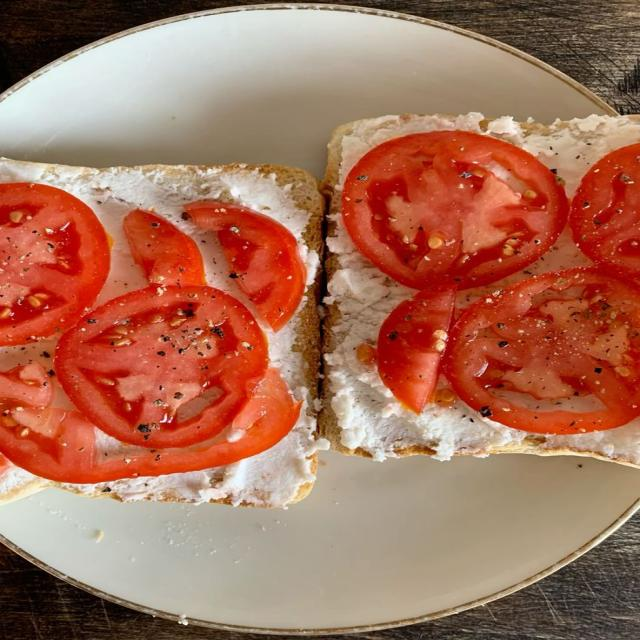sliced bread: (0, 159, 327, 507), (323, 115, 463, 213), (456, 434, 639, 468), (321, 387, 369, 455), (507, 120, 606, 147), (390, 436, 434, 455), (325, 307, 341, 354), (467, 115, 500, 135), (598, 115, 639, 127), (326, 252, 339, 277)
sliced tomatoe: (342, 132, 568, 289), (0, 368, 300, 483), (55, 286, 267, 448), (444, 269, 639, 434), (0, 183, 109, 345), (185, 201, 306, 331), (377, 286, 455, 413), (569, 143, 639, 279), (124, 209, 206, 285), (0, 363, 53, 437), (0, 363, 53, 407), (0, 455, 10, 475)
